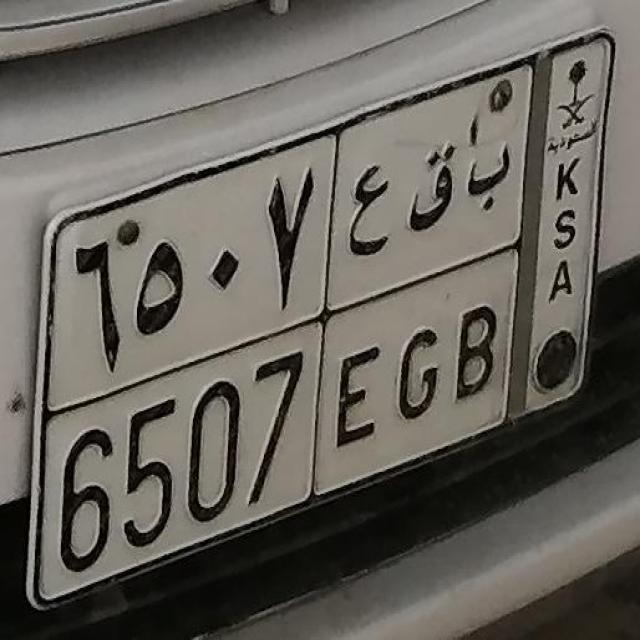license_plate: (26, 21, 617, 623)
